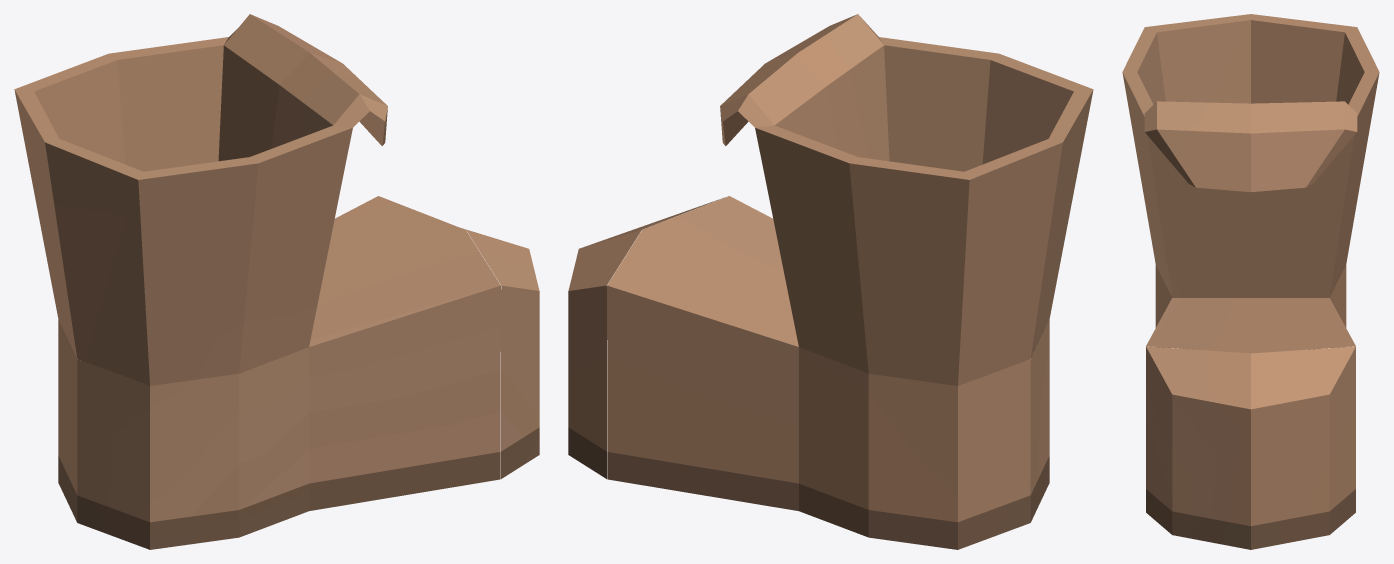
The model's file is Boots.glb.
The picture shows the model from 3 angles, left to right: view 1: azimuth 30°, elevation 25°; view 2: azimuth 150°, elevation 25°; view 3: azimuth 270°, elevation 25°; orthographic projection. The views are drawn at different scales.
Visible parts, largest first — view 1: Cube.010_Cube.012, talon, puntera; view 2: Cube.010_Cube.012, talon, puntera; view 3: Cube.010_Cube.012, puntera, talon.
Part boxes in pixels (<box>): Cube.010_Cube.012: <box>14,14,500,510</box>; talon: <box>58,319,308,549</box>; puntera: <box>462,228,539,478</box>; Cube.010_Cube.012: <box>607,14,1093,510</box>; talon: <box>799,319,1049,549</box>; puntera: <box>568,197,724,478</box>; Cube.010_Cube.012: <box>1122,14,1379,353</box>; puntera: <box>1146,346,1355,549</box>; talon: <box>1155,265,1346,353</box>.
Bounding box in the file's own units: 0.5664 × 0.462 × 0.3037.
Materials: 1 (1 with a texture image).
